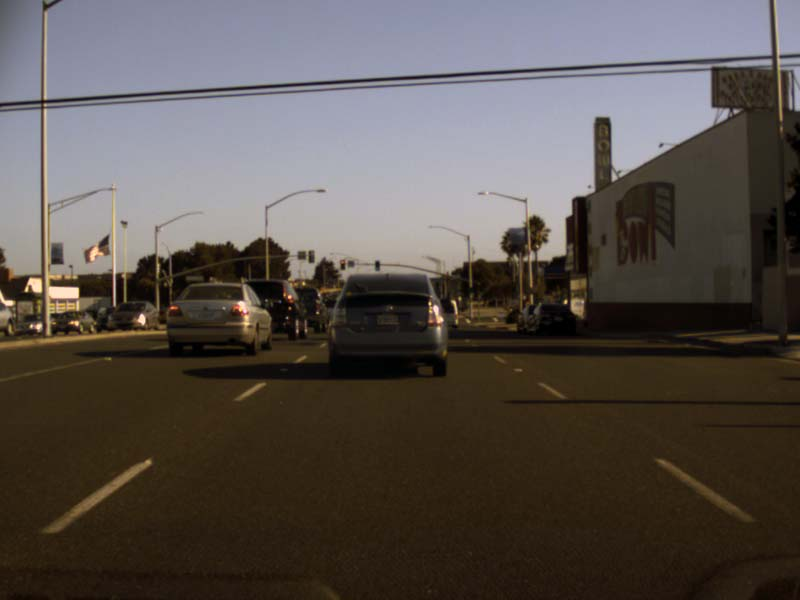Green: (374, 259, 380, 271)
Red: (339, 258, 345, 269)
